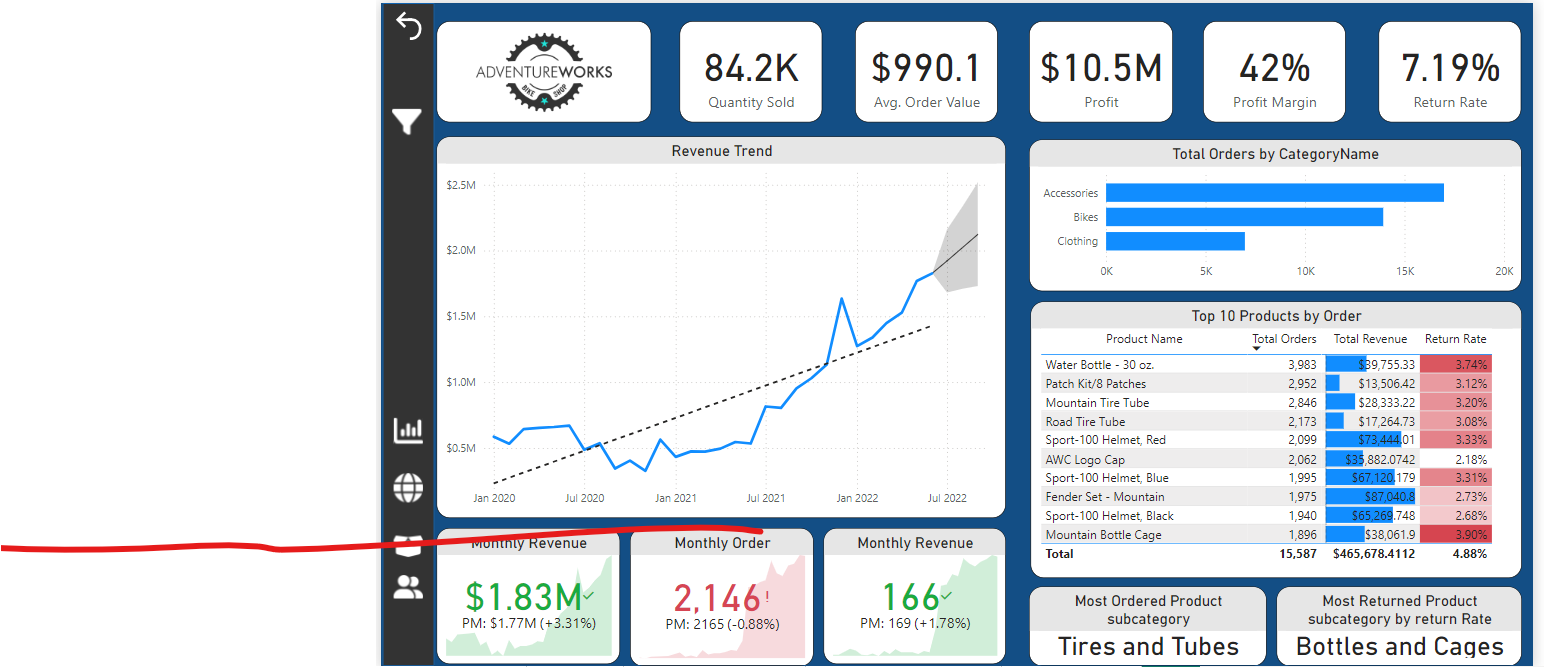

Layout of this report page (visuals, bound fields, positions):
{"tool":"powerbi","page":{"name":"Executive Dashboard","canvas":[1280,740],"ordinal":0},"visuals":[{"type":"card","fields":{"Values":["_Measure.Total Quantity"]},"box":[332.2,19.5,158.6,112.6],"z":0},{"type":"image","box":[61.3,19.4,238.7,112.9],"z":1000},{"type":"card","fields":{"Values":["_Measure.Avg. Order Value"]},"box":[526.4,19.5,158.6,112.6],"z":2000},{"type":"card","fields":{"Values":["_Measure.Profit"]},"box":[719.5,19.5,159.8,112.6],"z":3000},{"type":"card","fields":{"Values":["_Measure.Profit Margin"]},"box":[913.8,19.5,158.6,112.6],"z":4000},{"type":"card","fields":{"Values":["_Measure.Return Rate"]},"box":[1108,19.5,158.6,112.6],"z":5000},{"type":"lineChart","title":"Revenue Trend","fields":{"Category":["Calendar Lookup.Start of Month"],"Y":["_Measure.Total Revenue"]},"box":[61.4,148.6,632.9,424.3],"z":6000},{"type":"clusteredBarChart","title":"Total Orders by  CategoryName","fields":{"Category":["Product Categories Lookup.CategoryName"],"Y":["_Measure.Total Orders"]},"box":[720,151.4,547.1,168.6],"z":7000},{"type":"tableEx","title":"Top 10 Products by Order","fields":{"Values":["Product Lookup.Product Name","_Measure.Total Orders","_Measure.Total Revenue","_Measure.Return Rate"]},"box":[721.4,331.4,545.7,307.1],"z":8000},{"type":"card","title":"Most Ordered Product subcategory","fields":{"Values":["Min(Product Subcategories Lookup.SubcategoryName)"]},"box":[720,648.6,264.3,88.6],"z":9000},{"type":"card","title":"Most Returned Product subcategory by return Rate","fields":{"Values":["Min(Product Subcategories Lookup.SubcategoryName)"]},"box":[994.3,648.6,272.9,88.6],"z":10000},{"type":"kpi","title":"Monthly Revenue ","fields":{"Indicator":["_Measure.Total Revenue"],"Goal":["_Measure.Previous Month Revenue"],"TrendLine":["Calendar Lookup.Start of Month"]},"box":[61.4,582.9,204.3,151.4],"z":11000},{"type":"kpi","title":"Monthly Order ","fields":{"TrendLine":["Calendar Lookup.Start of Month"],"Indicator":["_Measure.Total Orders"],"Goal":["_Measure.Previous Month Order"]},"box":[276.4,582.9,204.3,154.3],"z":12000},{"type":"kpi","title":"Monthly Revenue ","fields":{"TrendLine":["Calendar Lookup.Start of Month"],"Indicator":["_Measure.Total Returns"],"Goal":["_Measure.Previous Month Return"]},"box":[491.4,582.9,202.9,151.4],"z":13000},{"type":"shape","box":[1.6,0,57.8,737.5],"z":14000},{"type":"actionButton","box":[9.4,0,42.2,50],"z":15000},{"type":"actionButton","box":[9.4,454.7,42.2,40.6],"z":16000,"group":"g1"},{"type":"group","id":"g1","title":"Page Nav Button","box":[9.4,454.7,42.2,214.1],"z":16000},{"type":"actionButton","box":[9.4,517.2,42.2,40.6],"z":17000,"group":"g1"},{"type":"actionButton","box":[7.8,110.9,43.8,40.6],"z":17000},{"type":"actionButton","box":[9.4,582.8,42.2,40.6],"z":18000,"group":"g1"},{"type":"actionButton","box":[9.4,628.1,42.2,40.6],"z":19000,"group":"g1"}]}

Visuals, with their boxes in screenshot pixels (x1, y1, x2, y2):
card - _Measure.Total Quantity: {"x1": 673, "y1": 21, "x2": 815, "y2": 122}
image: {"x1": 432, "y1": 21, "x2": 645, "y2": 122}
card - _Measure.Avg. Order Value: {"x1": 846, "y1": 21, "x2": 987, "y2": 122}
card - _Measure.Profit: {"x1": 1018, "y1": 21, "x2": 1160, "y2": 122}
card - _Measure.Profit Margin: {"x1": 1191, "y1": 21, "x2": 1332, "y2": 122}
card - _Measure.Return Rate: {"x1": 1364, "y1": 21, "x2": 1505, "y2": 122}
"Revenue Trend" lineChart: {"x1": 433, "y1": 136, "x2": 996, "y2": 514}
"Total Orders by  CategoryName" clusteredBarChart: {"x1": 1018, "y1": 139, "x2": 1505, "y2": 289}
"Top 10 Products by Order" tableEx: {"x1": 1020, "y1": 299, "x2": 1505, "y2": 572}
"Most Ordered Product subcategory" card: {"x1": 1018, "y1": 581, "x2": 1254, "y2": 660}
"Most Returned Product subcategory by return Rate" card: {"x1": 1262, "y1": 581, "x2": 1505, "y2": 660}
"Monthly Revenue " kpi: {"x1": 433, "y1": 523, "x2": 614, "y2": 657}
"Monthly Order " kpi: {"x1": 624, "y1": 523, "x2": 806, "y2": 660}
"Monthly Revenue " kpi: {"x1": 815, "y1": 523, "x2": 996, "y2": 657}
shape: {"x1": 379, "y1": 4, "x2": 431, "y2": 660}
actionButton: {"x1": 386, "y1": 4, "x2": 424, "y2": 49}
actionButton: {"x1": 386, "y1": 409, "x2": 424, "y2": 445}
"Page Nav Button" group: {"x1": 386, "y1": 409, "x2": 424, "y2": 599}
actionButton: {"x1": 386, "y1": 464, "x2": 424, "y2": 500}
actionButton: {"x1": 385, "y1": 103, "x2": 424, "y2": 139}
actionButton: {"x1": 386, "y1": 523, "x2": 424, "y2": 559}
actionButton: {"x1": 386, "y1": 563, "x2": 424, "y2": 599}
